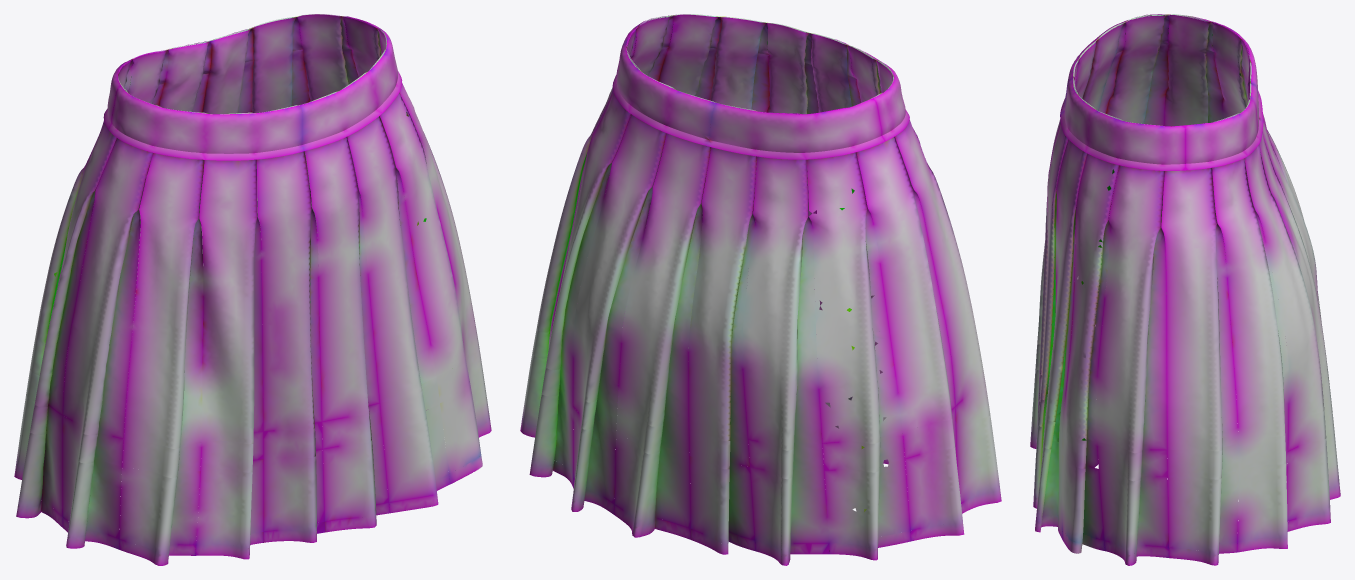
Rendered from skirt.glb.
3 views of the same model, side by side, from view 1: azimuth 30°, elevation 25°; view 2: azimuth 150°, elevation 25°; view 3: azimuth 270°, elevation 25° (orthographic). The views are drawn at different scales.
Parts seen in each view (by area): view 1: front, back, waistband; view 2: back, front, waistband; view 3: back, front, waistband.
Boxes of the visible parts, left/top/right/bottom form: front: left=41, top=22, right=491, bottom=565; back: left=14, top=14, right=426, bottom=518; waistband: left=118, top=14, right=387, bottom=114; back: left=520, top=29, right=964, bottom=565; front: left=627, top=14, right=1001, bottom=513; waistband: left=626, top=14, right=893, bottom=114; back: left=1161, top=15, right=1340, bottom=565; front: left=1030, top=14, right=1185, bottom=565; waistband: left=1073, top=14, right=1251, bottom=126.
Bounding box in the file's own units: 0.5503 × 0.5197 × 0.35.
